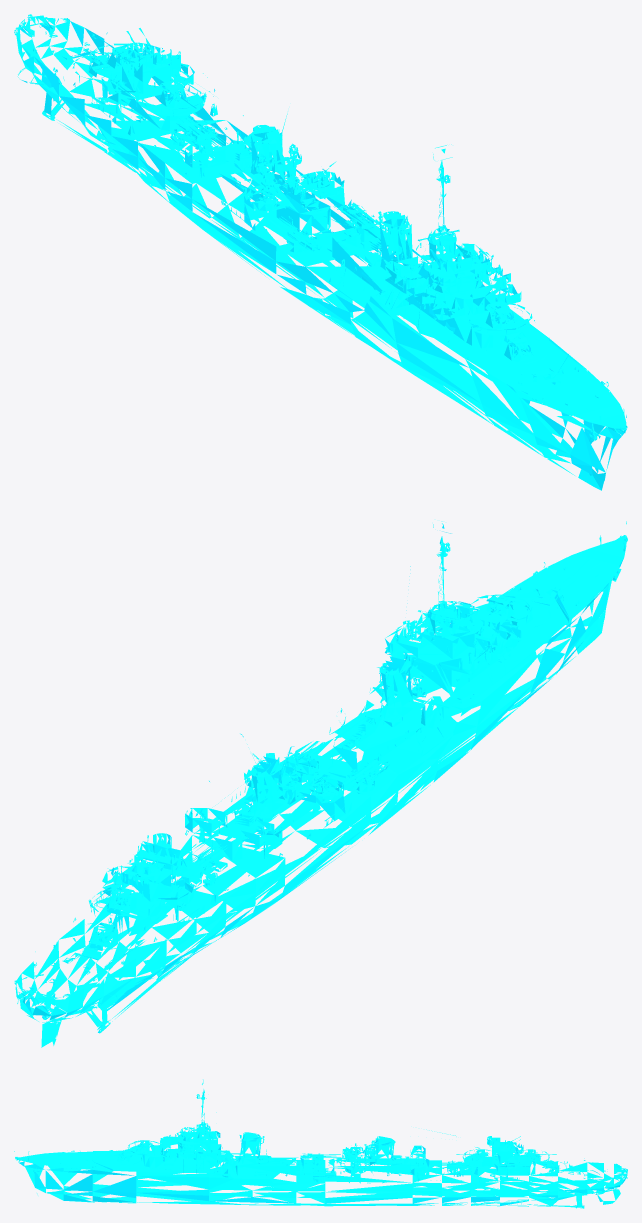
The model's file is Le_Fantasque.glb.
3 renders of one model, top to bottom at view 1: azimuth 30°, elevation 25°; view 2: azimuth 150°, elevation 25°; view 3: azimuth 270°, elevation 25°, orthographic. The views are drawn at different scales.
Bounding box in the file's own units: 0.822 × 1.98 × 8.83.
